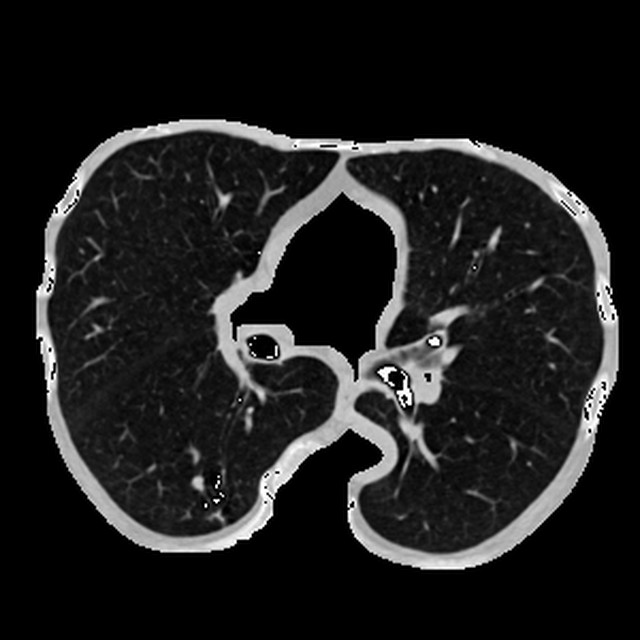PN: (188, 474, 205, 491)
